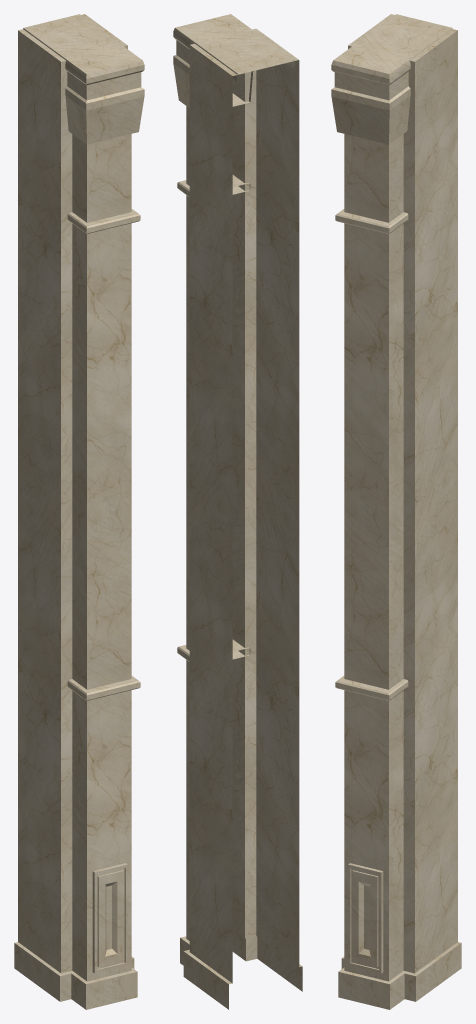
3 views of the same model, side by side, from view 1: azimuth 30°, elevation 25°; view 2: azimuth 210°, elevation 25°; view 3: azimuth 330°, elevation 25° (orthographic).
Visible parts, largest first — view 1: M_W_201_b_05x6; view 2: M_W_201_b_05x6; view 3: M_W_201_b_05x6.
Boxes of the visible parts, x1=… form: M_W_201_b_05x6: x1=14, y1=14, x2=144, y2=1009; M_W_201_b_05x6: x1=173, y1=14, x2=302, y2=1009; M_W_201_b_05x6: x1=331, y1=14, x2=461, y2=1009.
Bounding box in the file's own units: 0.498 × 6.03 × 0.7445.
